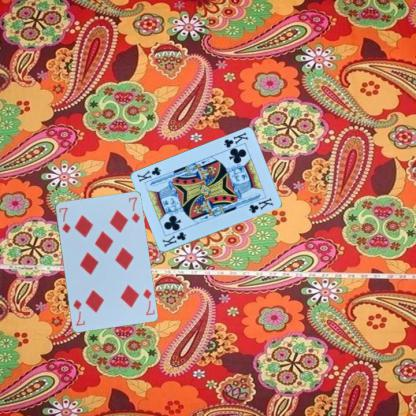7d: (140, 286, 156, 316), (56, 205, 72, 234)
Kc: (221, 130, 249, 149), (160, 230, 187, 248)
